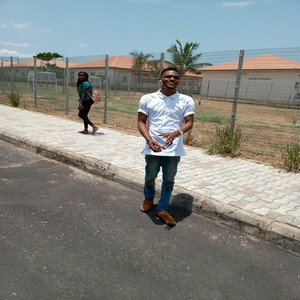Fulokoja_female_student: (76, 71, 103, 135)
Fulokoja_male_student: (139, 69, 191, 216)
